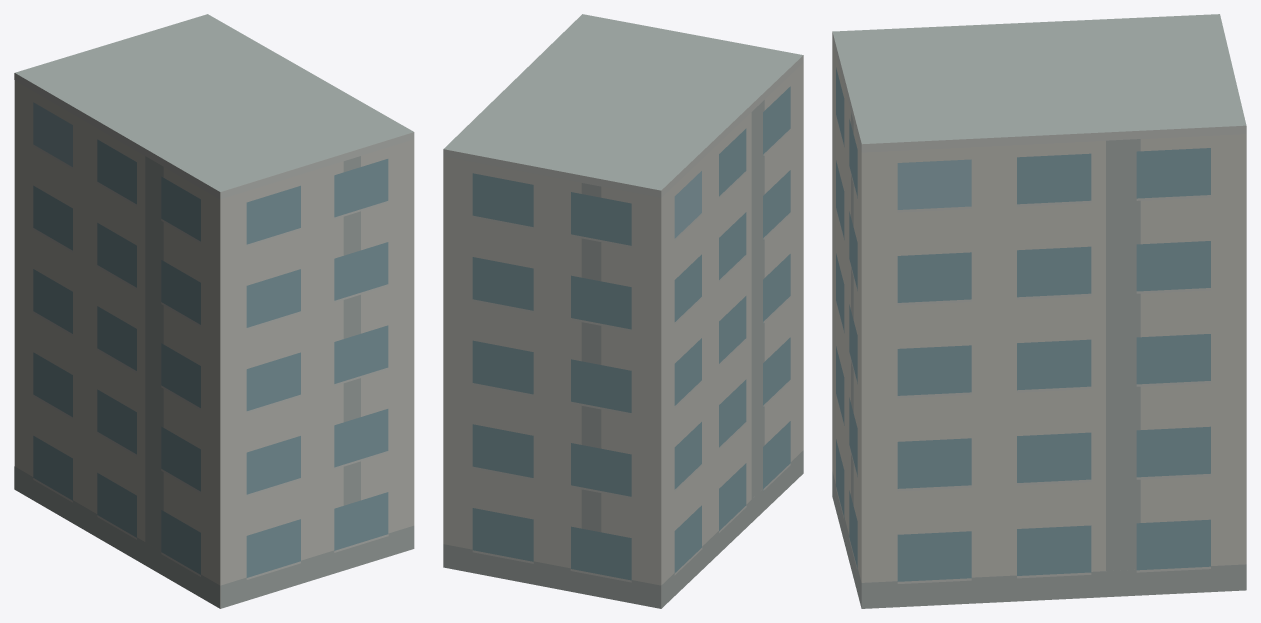
Rendered from survey-upis-32956407.glb.
The picture shows the model from 3 angles, left to right: view 1: azimuth 30°, elevation 25°; view 2: azimuth 150°, elevation 25°; view 3: azimuth 270°, elevation 25°; orthographic projection. The views are drawn at different scales.
Visible parts, largest first — view 1: survey-upis-32956407.tmp; view 2: survey-upis-32956407.tmp; view 3: survey-upis-32956407.tmp.
Boxes of the visible parts, bbox=[...] form: survey-upis-32956407.tmp: bbox=[14, 14, 414, 608]; survey-upis-32956407.tmp: bbox=[443, 14, 803, 608]; survey-upis-32956407.tmp: bbox=[832, 14, 1246, 608].
Size of the model in its own units: 8.26 by 13.73 by 11.1.
